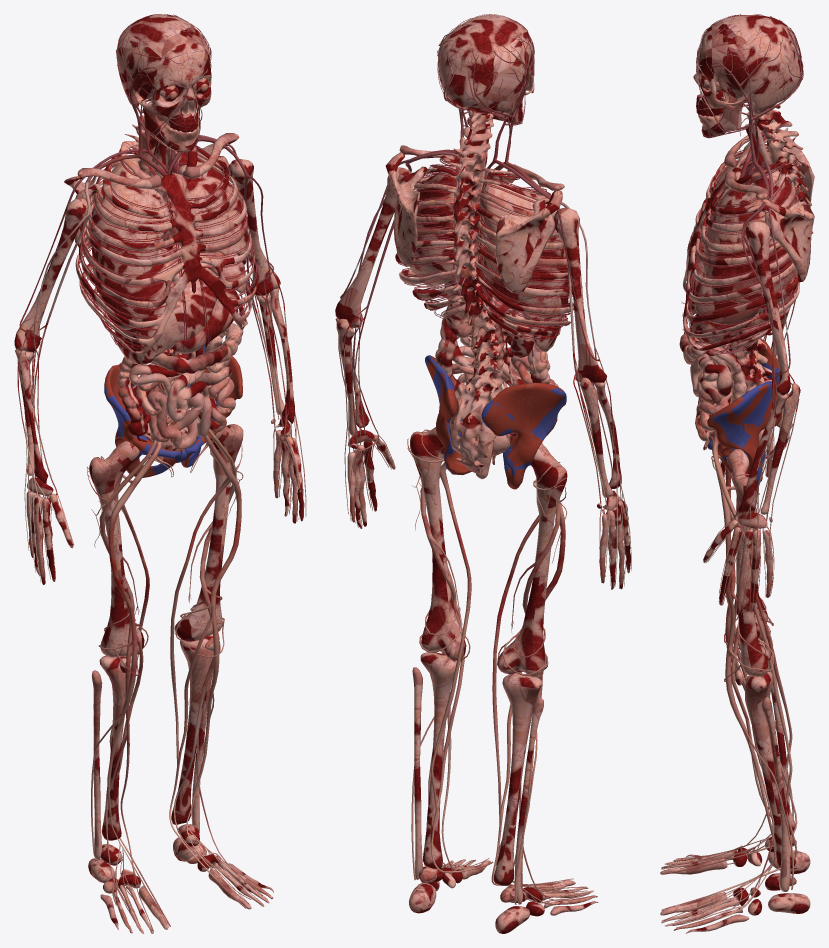
The picture shows the model from 3 angles, left to right: view 1: azimuth 30°, elevation 25°; view 2: azimuth 150°, elevation 25°; view 3: azimuth 270°, elevation 25°; orthographic projection. The views are drawn at different scales.
Visible parts, largest first — view 1: Legs, VenasMesh, Hands, Ribcage, ArteriasMesh, DigestiveSystem, Skull, HumanLungs, Liver, Pelvis, Diafragma, Spine; view 2: Legs, Hands, VenasMesh, Spine, ArteriasMesh, Skull, Ribcage, Pelvis, HumanLungs, DigestiveSystem, Urinary_System, Liver (+1 smaller); view 3: Legs, VenasMesh, Hands, Skull, ArteriasMesh, Ribcage, DigestiveSystem, HumanLungs, Pelvis, Spine, Diafragma.
Boxes of the visible parts, x1,y1,x2,y2 form: Legs: (88,424,273,933); VenasMesh: (17,14,306,931); Hands: (14,133,304,584); Ribcage: (75,141,258,354); ArteriasMesh: (19,14,303,932); DigestiveSystem: (118,119,243,462); Skull: (117,14,211,152); HumanLungs: (89,140,248,306); Liver: (114,276,217,365); Pelvis: (104,345,242,477); Diafragma: (99,244,246,329); Spine: (124,98,187,441); Legs: (409,427,598,933); Hands: (335,145,630,589); VenasMesh: (338,23,631,904); Spine: (444,110,504,473); ArteriasMesh: (340,14,628,900); Skull: (438,14,534,123); Ribcage: (395,155,574,335); Pelvis: (425,355,566,489); HumanLungs: (410,128,568,303); DigestiveSystem: (435,183,558,479); Urinary_System: (445,293,533,464); Liver: (521,311,562,351); Legs: (660,449,810,933); VenasMesh: (661,16,801,925); Hands: (703,130,814,615); Skull: (693,15,802,138); ArteriasMesh: (662,14,803,927); Ribcage: (682,139,800,350); DigestiveSystem: (679,112,770,466); HumanLungs: (703,123,796,307); Pelvis: (707,338,787,485); Spine: (729,104,813,458); Diafragma: (695,231,763,325).
Bounding box in the file's own units: 54.88 × 170 × 27.09.
Materials: 3 (3 with a texture image).
